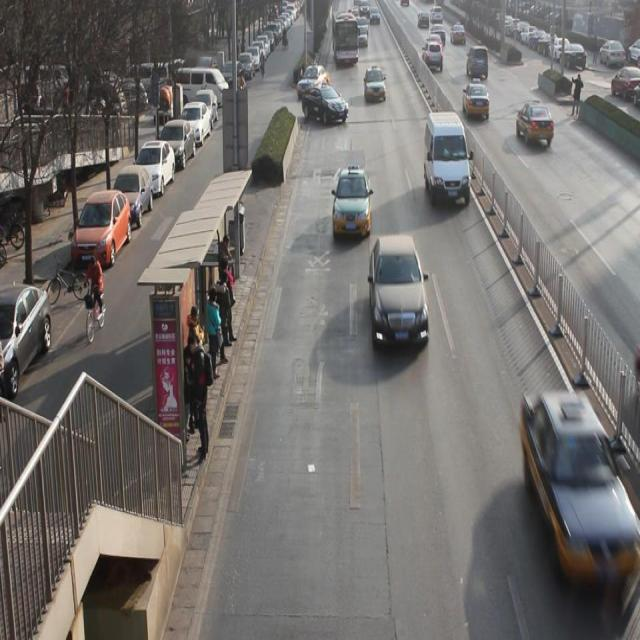car: (521, 391, 632, 594), (369, 238, 431, 350), (334, 165, 372, 234), (516, 101, 555, 147), (308, 85, 348, 122), (301, 59, 329, 101), (464, 83, 492, 121), (466, 44, 491, 79), (363, 66, 388, 99), (422, 41, 444, 73), (425, 31, 444, 54), (452, 23, 468, 46), (431, 22, 447, 42), (357, 25, 370, 48)
truck: (424, 110, 472, 206)
